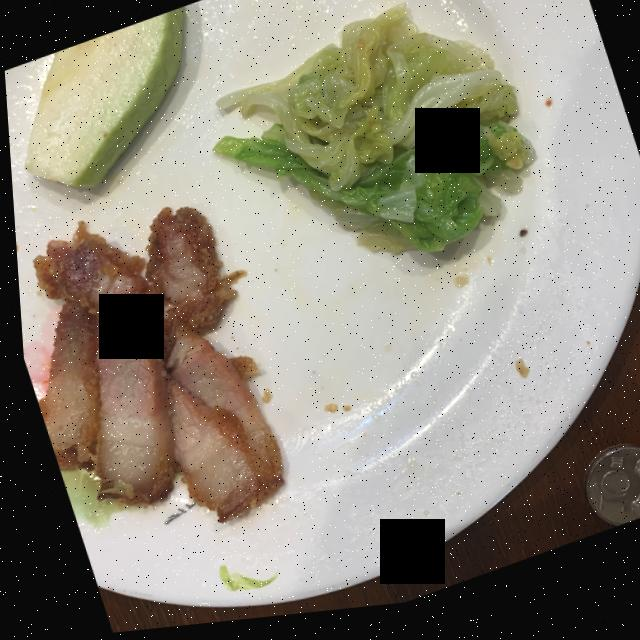cabbage: (211, 13, 530, 261)
coin: (578, 456, 640, 538)
guava -sliced-: (22, 10, 184, 188)
red grilled pork: (30, 211, 276, 525)
